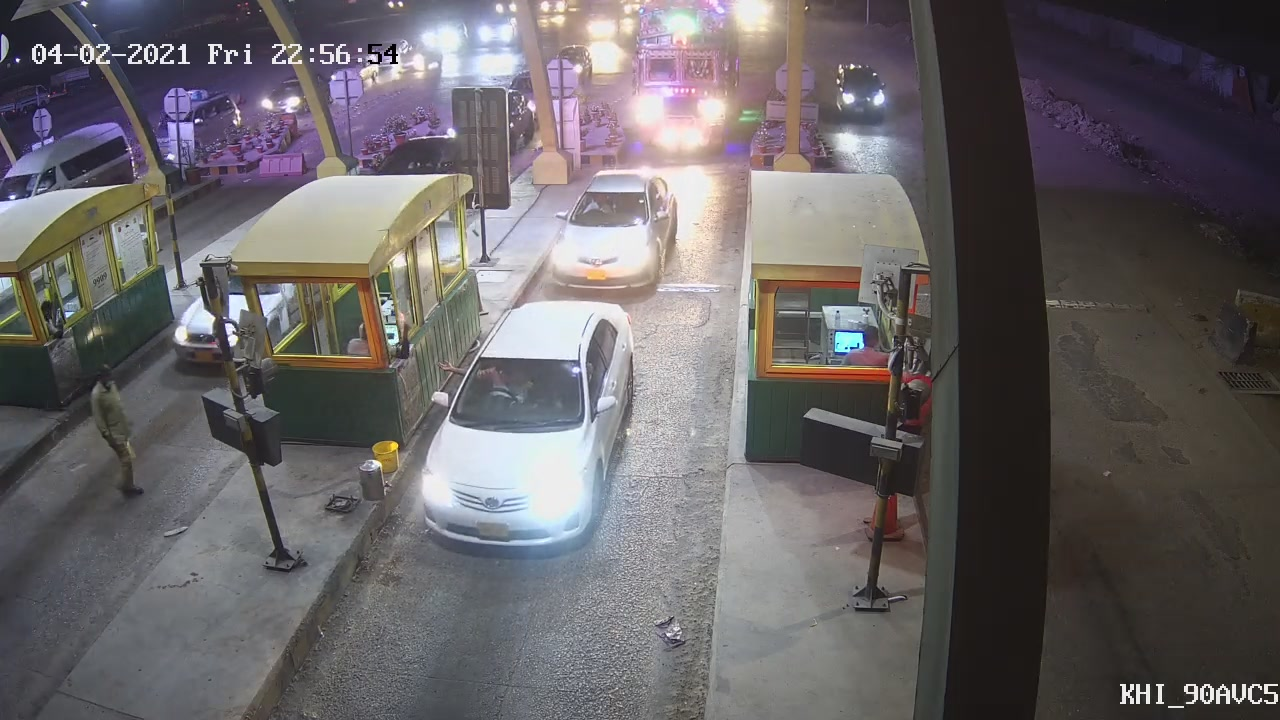F1: (412, 299, 630, 552), (545, 168, 680, 296)
